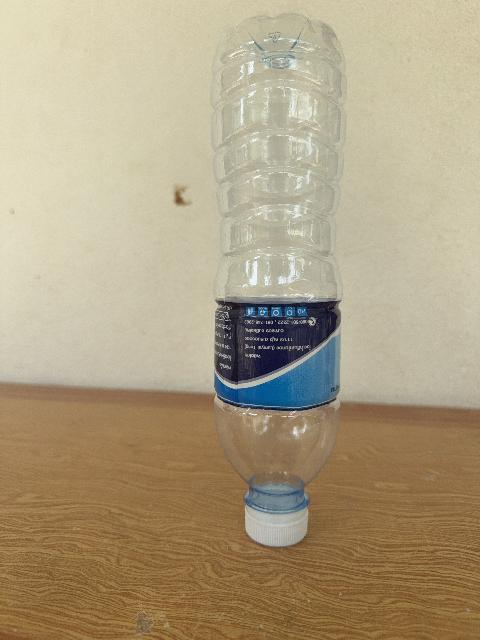bottle: (212, 14, 346, 546)
